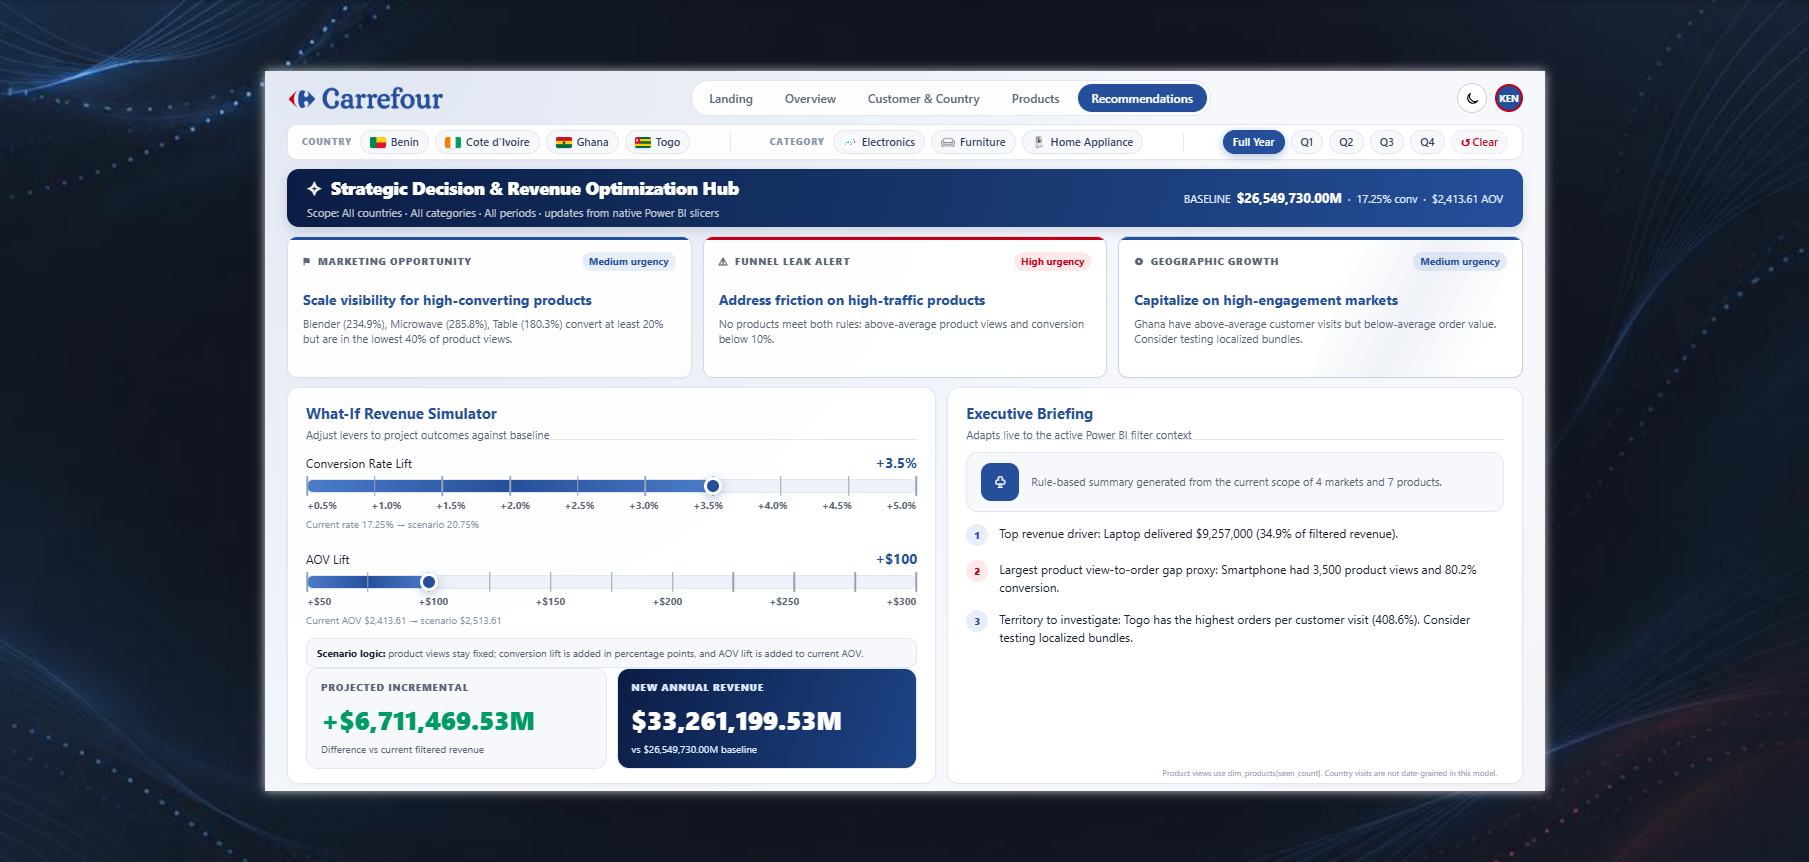

Layout of this report page (visuals, bound fields, positions):
{"tool":"powerbi","page":{"name":"Recommendation Page","canvas":[1280,720],"ordinal":4},"visuals":[{"type":"htmlContent443BE3AD55E043BF878BED274D3A6855","fields":{"content":["HTML_Visuals.Recommendations_Page"]},"box":[0,0,1280,720],"z":0},{"type":"advancedSlicerVisual","fields":{"Values":["conversion_lift.Value"]},"box":[40,400,616,40],"z":1000},{"type":"advancedSlicerVisual","fields":{"Values":["aov_lift.Value"]},"box":[40,496,696,48],"z":2000},{"type":"advancedSlicerVisual","title":"Country","fields":{"Values":["dim_country.country"]},"box":[96,56,344,32],"z":4000},{"type":"advancedSlicerVisual","title":"Category","fields":{"Values":["dim_category.category"]},"box":[568,56,312,32],"z":5000},{"type":"advancedSlicerVisual","title":"Quarter","fields":{"Values":["dim_date.quarter"]},"box":[1024,56,160,32],"z":6000},{"type":"actionButton","title":"Clear Filters","box":[1184,56,64,32],"z":7000},{"type":"actionButton","title":"Products","box":[740,15,60,24],"z":9000},{"type":"actionButton","title":"Customer & Country","box":[600,15,120,24],"z":9500},{"type":"actionButton","title":"Overview","box":[515,15,60,24],"z":10000},{"type":"actionButton","title":"Landing","box":[440,15,55,24],"z":11000}]}

Visuals, with their boxes on the page's 1280x720 design canvas (x1, y1, x2, y2). These are canvas units, not pixel positions in the 1809x862 screenshot, which may show the page scaled, cropped or inside an application window:
htmlContent443BE3AD55E043BF878BED274D3A6855 - HTML_Visuals.Recommendations_Page: rect(0, 0, 1280, 720)
advancedSlicerVisual - conversion_lift.Value: rect(40, 400, 656, 440)
advancedSlicerVisual - aov_lift.Value: rect(40, 496, 736, 544)
"Country" advancedSlicerVisual: rect(96, 56, 440, 88)
"Category" advancedSlicerVisual: rect(568, 56, 880, 88)
"Quarter" advancedSlicerVisual: rect(1024, 56, 1184, 88)
"Clear Filters" actionButton: rect(1184, 56, 1248, 88)
"Products" actionButton: rect(740, 15, 800, 39)
"Customer & Country" actionButton: rect(600, 15, 720, 39)
"Overview" actionButton: rect(515, 15, 575, 39)
"Landing" actionButton: rect(440, 15, 495, 39)
